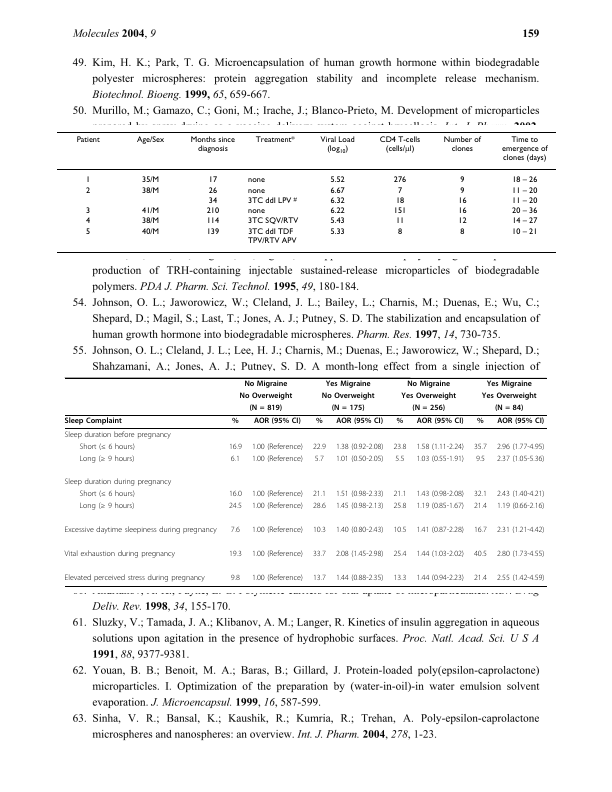borderless: (64, 376, 547, 586), (56, 130, 556, 252)
cell: (500, 134, 548, 163), (64, 526, 218, 535), (64, 574, 206, 583), (64, 430, 172, 440), (64, 478, 172, 488), (64, 550, 176, 559), (247, 226, 297, 245), (378, 133, 421, 155), (189, 134, 235, 153), (319, 134, 355, 155), (442, 134, 481, 153), (78, 442, 136, 452), (78, 490, 136, 500), (78, 454, 135, 464), (78, 502, 135, 512), (64, 417, 123, 426), (251, 442, 304, 452), (251, 454, 304, 464), (251, 490, 304, 500), (251, 502, 304, 512), (247, 216, 299, 226), (400, 392, 457, 401), (481, 392, 537, 401), (247, 195, 297, 205), (415, 442, 465, 452), (415, 454, 465, 464), (415, 490, 465, 500), (415, 502, 465, 512), (335, 442, 384, 452), (496, 442, 545, 452), (335, 454, 384, 464), (496, 454, 545, 464), (335, 490, 384, 500), (496, 490, 545, 500), (335, 502, 384, 512), (496, 502, 545, 512), (239, 392, 293, 401), (321, 392, 375, 401), (251, 526, 304, 535), (251, 550, 304, 559), (251, 574, 304, 583), (415, 526, 465, 535), (415, 550, 465, 559), (415, 574, 465, 583), (253, 417, 302, 426), (335, 417, 384, 426), (496, 417, 545, 426), (335, 526, 384, 535), (496, 526, 545, 535), (335, 550, 384, 559), (496, 550, 545, 559), (335, 574, 384, 583), (496, 574, 545, 583), (416, 417, 464, 426), (325, 380, 372, 389), (486, 380, 533, 389), (254, 134, 295, 144), (243, 380, 288, 389), (406, 380, 451, 389), (248, 404, 283, 413), (411, 404, 446, 413), (331, 404, 365, 413), (135, 134, 165, 144), (511, 175, 538, 185), (511, 185, 538, 195), (511, 206, 538, 216), (511, 216, 538, 226), (511, 226, 538, 236), (494, 404, 524, 413), (75, 134, 100, 144), (511, 196, 538, 205), (141, 175, 160, 185), (141, 185, 160, 195), (141, 206, 160, 216), (141, 216, 160, 226), (141, 226, 160, 236), (247, 175, 265, 185), (247, 185, 265, 195), (247, 206, 265, 216), (329, 175, 345, 185), (329, 185, 345, 195), (329, 206, 345, 216), (329, 216, 345, 226), (329, 226, 345, 236), (392, 175, 407, 185), (205, 206, 220, 216), (392, 206, 407, 216), (205, 216, 220, 226), (205, 226, 220, 236), (228, 442, 243, 452), (312, 442, 327, 452), (392, 442, 407, 452), (473, 442, 488, 452), (228, 490, 243, 500), (312, 490, 327, 500), (392, 490, 407, 500), (473, 490, 488, 500), (228, 502, 243, 512), (312, 502, 327, 512), (392, 502, 407, 512), (473, 502, 488, 512), (329, 196, 345, 205), (312, 526, 327, 535), (392, 526, 407, 535), (473, 526, 488, 535), (228, 550, 243, 559), (312, 550, 327, 559), (392, 550, 407, 559), (473, 550, 488, 559), (312, 574, 327, 583), (392, 574, 407, 583), (473, 574, 488, 583), (207, 175, 218, 185), (207, 185, 218, 195), (394, 216, 405, 226), (230, 454, 241, 464), (314, 454, 325, 464), (394, 454, 405, 464), (475, 454, 486, 464), (457, 206, 467, 216), (457, 216, 467, 226), (207, 196, 218, 205), (394, 196, 405, 205), (230, 526, 241, 535), (230, 574, 241, 583), (457, 196, 467, 205), (231, 417, 240, 426), (315, 417, 324, 426), (395, 417, 404, 426), (476, 417, 485, 426), (396, 185, 403, 195), (396, 226, 403, 236), (85, 175, 91, 185), (459, 175, 465, 185), (85, 185, 91, 195), (459, 185, 465, 195), (85, 206, 91, 216), (85, 216, 91, 226), (85, 226, 91, 236), (459, 226, 465, 236)
